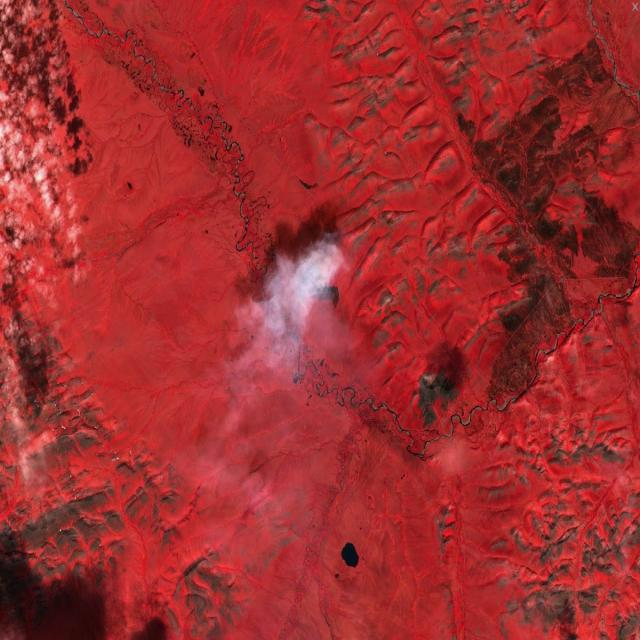fire: (294, 261, 332, 309)
